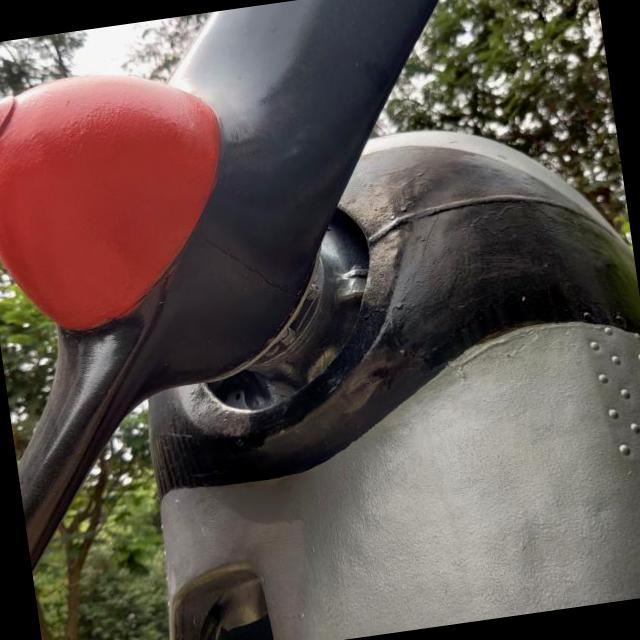crack: (194, 222, 309, 322)
